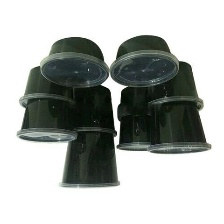plastic_box: (53, 127, 124, 194), (35, 32, 113, 92), (104, 31, 183, 90), (143, 99, 214, 159), (12, 94, 81, 148), (144, 57, 206, 116), (64, 82, 119, 143), (14, 63, 80, 113), (113, 84, 169, 124), (114, 120, 166, 155)
